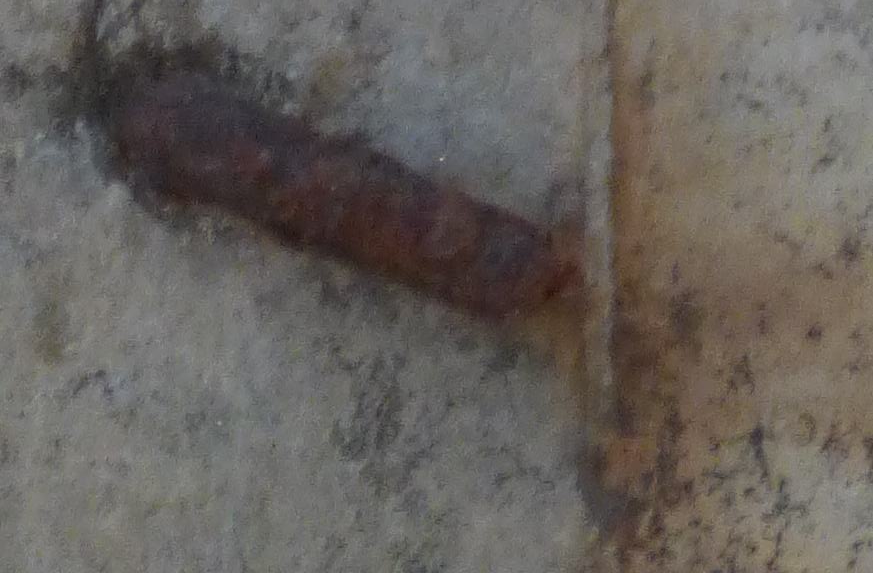Exposed reinforcement: (108, 82, 563, 322)
